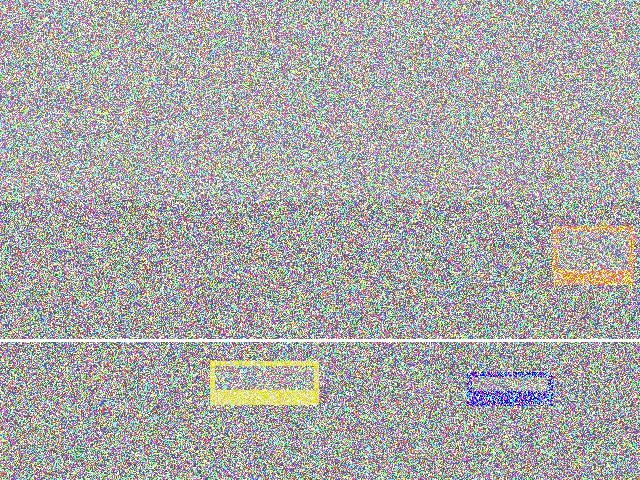car: (459, 171, 539, 266)
truck: (282, 116, 433, 223)
